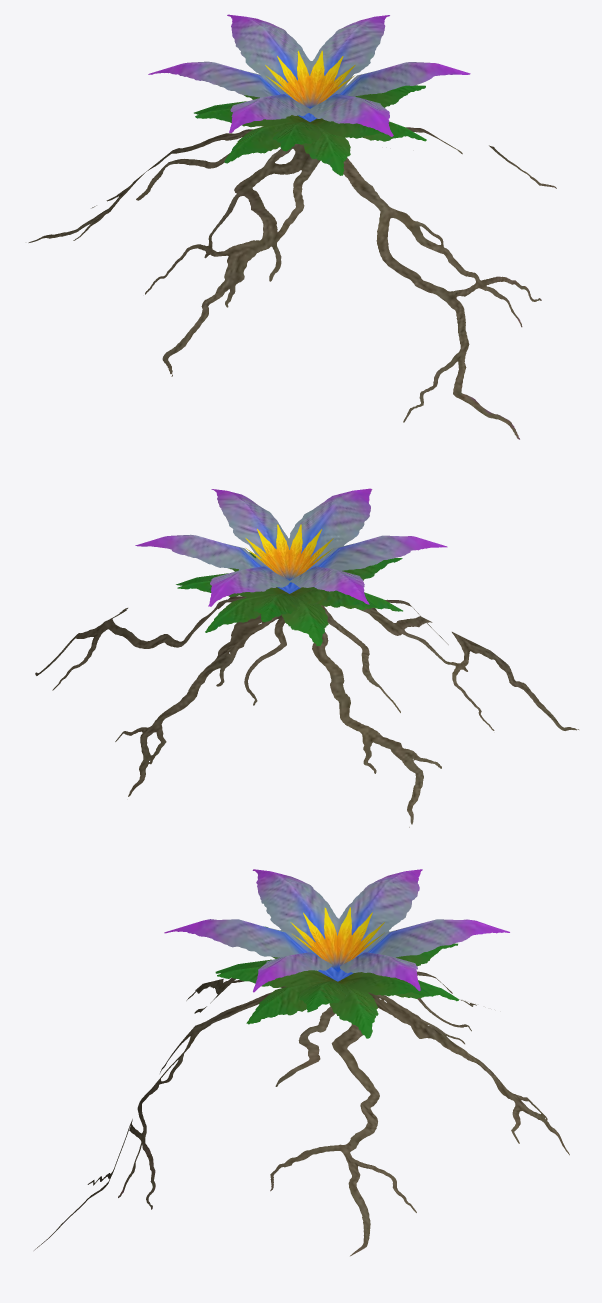
The model's file is Plant - Alien Flower2-BIpuE9_B.glb.
3 views of the same model, one above another, from view 1: azimuth 30°, elevation 25°; view 2: azimuth 150°, elevation 25°; view 3: azimuth 270°, elevation 25° (orthographic). The views are drawn at different scales.
Parts seen in each view (by area): view 1: Flower2(Clone); view 2: Flower2(Clone); view 3: Flower2(Clone).
Boxes of the visible parts, bbox=[...] form: Flower2(Clone): bbox=[28, 14, 556, 439]; Flower2(Clone): bbox=[35, 488, 578, 827]; Flower2(Clone): bbox=[34, 869, 569, 1256].
Bounding box in the file's own units: 1.06 × 0.6025 × 0.997.
Materials: 1 (1 with a texture image).
